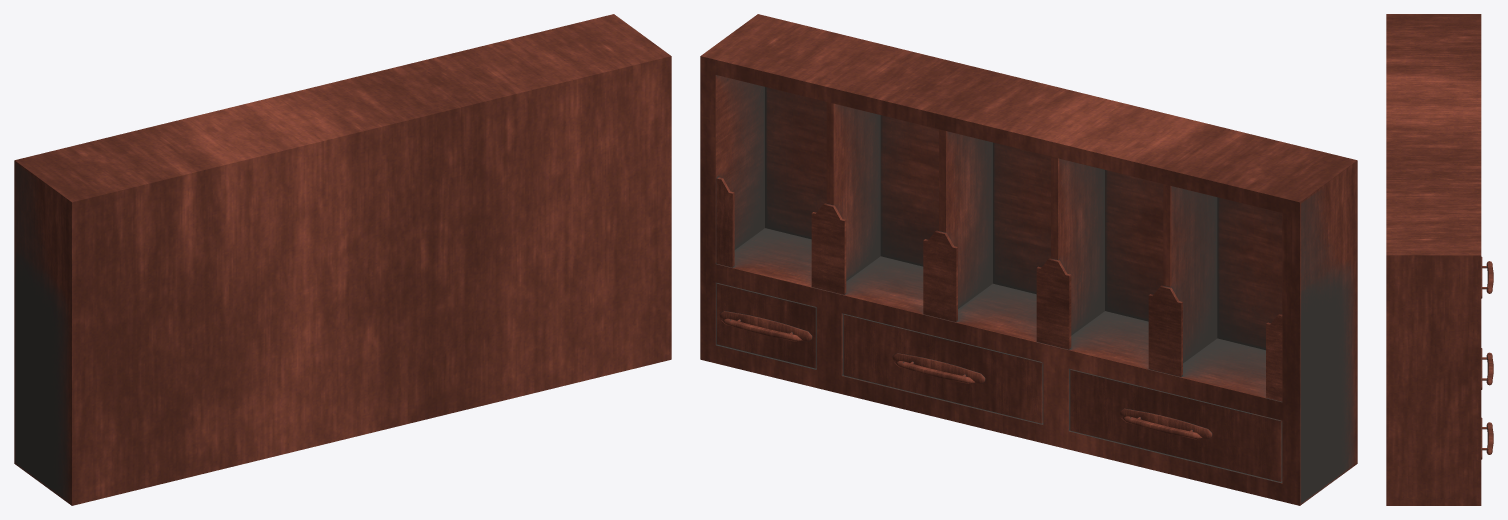
File: SM_Display_Cupboard.fbx
3 renders of one model, left to right at view 1: azimuth 30°, elevation 25°; view 2: azimuth 150°, elevation 25°; view 3: azimuth 270°, elevation 25°, orthographic. The views are drawn at different scales.
Parts seen in each view (by area): view 1: SM_Display_Cupboard; view 2: SM_Display_Cupboard; view 3: SM_Display_Cupboard.
Part boxes in pixels (box(x1,y1,x2,y2)): SM_Display_Cupboard: box(14, 14, 671, 505); SM_Display_Cupboard: box(700, 14, 1357, 505); SM_Display_Cupboard: box(1386, 14, 1493, 505).
Size of the model in its own units: 140 by 26.24 by 67.61.
1 material, 1 textured.
